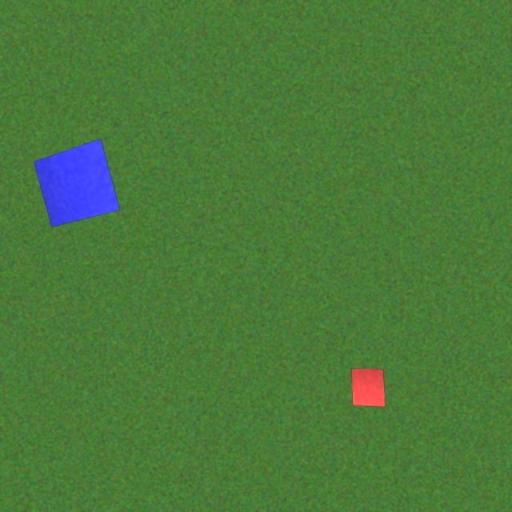BLUE_SQUARE: (34, 138, 120, 228)
RED_SQUARE: (350, 368, 386, 408)
